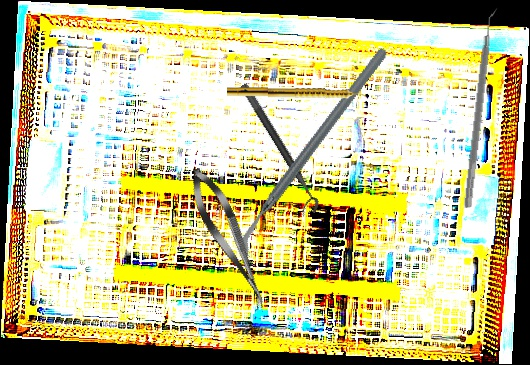Chopper: (187, 46, 441, 258)
Fixation Ring: (229, 82, 323, 219)
Handpiece: (226, 86, 367, 102)
Micro Scissor: (181, 162, 277, 315)
Spatula Surgical: (463, 5, 502, 210)
